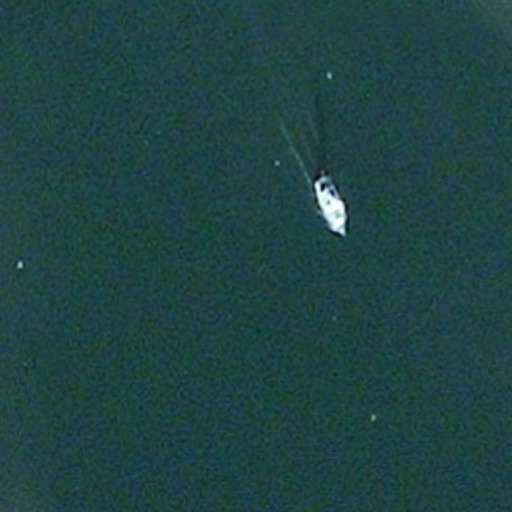ship: (310, 170, 353, 242)
